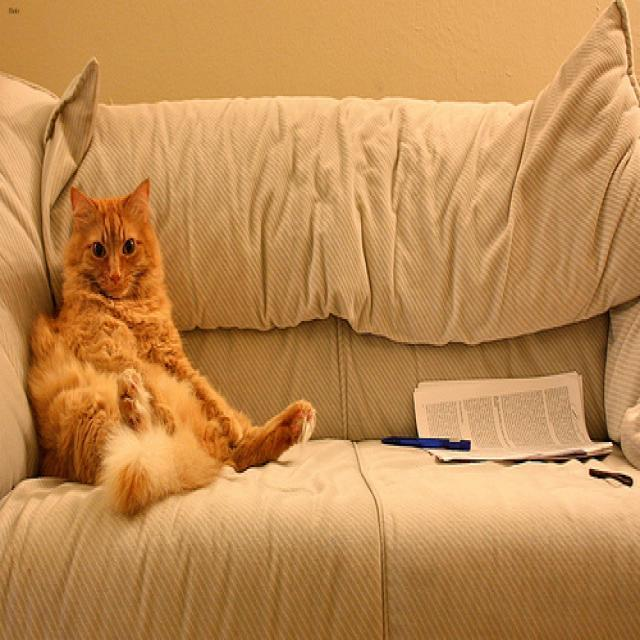Maine_Coon: (61, 171, 156, 300)
